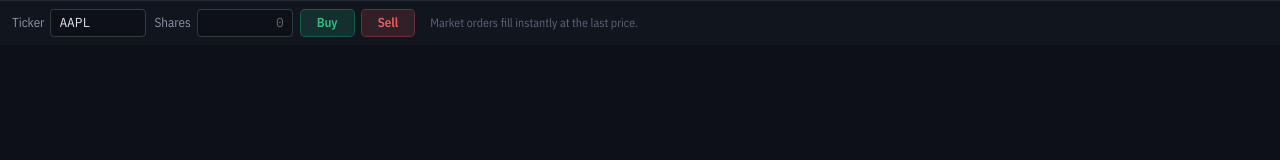
Scenario: TradeBar › validates quantity locally
Click the button with test id "trade-buy" at (327, 23), box [301,10,354,36]
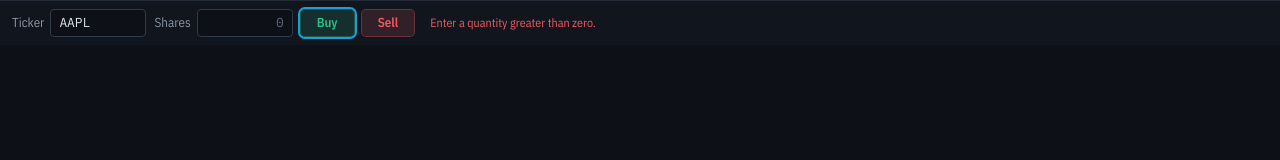
Check: the message with test id "trade-error" shows "quantity", box [430,15,596,30]
